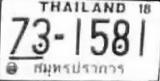1: (138, 18, 146, 56), (74, 18, 80, 55)
3: (31, 17, 50, 55)
5: (89, 17, 109, 55)
7: (9, 16, 29, 54)
8: (111, 18, 129, 55)
SPK: (32, 60, 125, 76)
